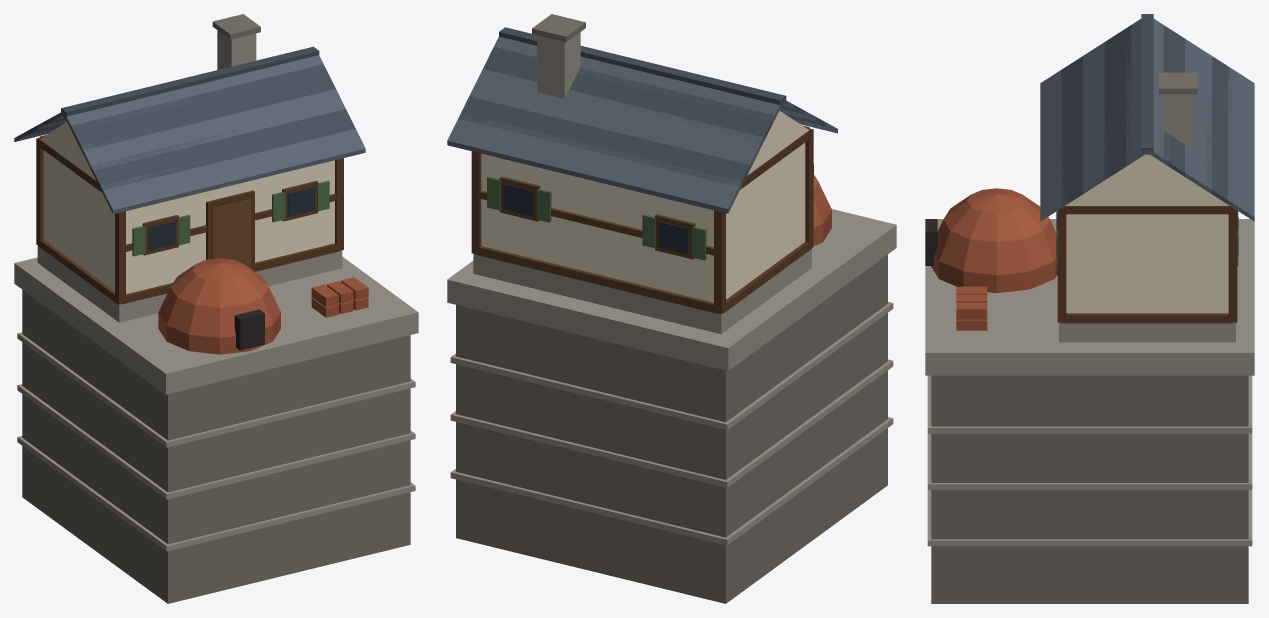
The model's file is kiln.glb.
The picture shows the model from 3 angles, left to right: view 1: azimuth 30°, elevation 25°; view 2: azimuth 150°, elevation 25°; view 3: azimuth 270°, elevation 25°; orthographic projection. The views are drawn at different scales.
Parts seen in each view (by area): view 1: kiln; view 2: kiln; view 3: kiln.
Boxes of the visible parts, x1,y1,x2,y2 form: kiln: [14, 14, 418, 603]; kiln: [447, 14, 896, 603]; kiln: [925, 14, 1254, 603].
Size of the model in its own units: 5.1 by 8.72 by 5.3.
